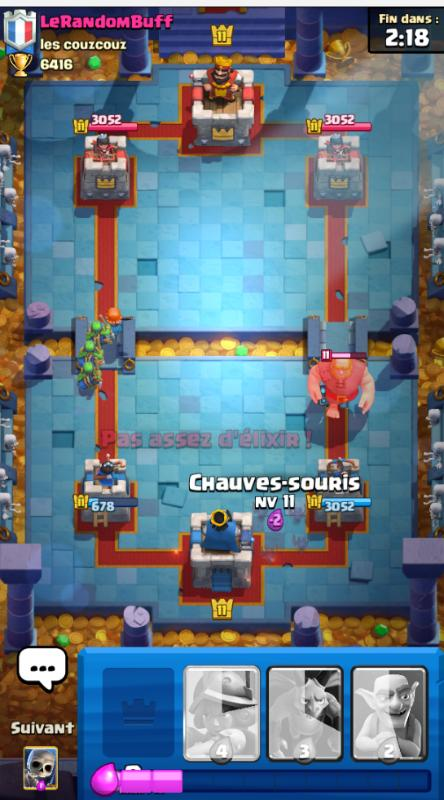bat: (252, 507, 311, 566)
geant: (310, 354, 372, 423)
gobelin_lances: (78, 324, 108, 382)
valkyrie: (105, 304, 137, 348)
